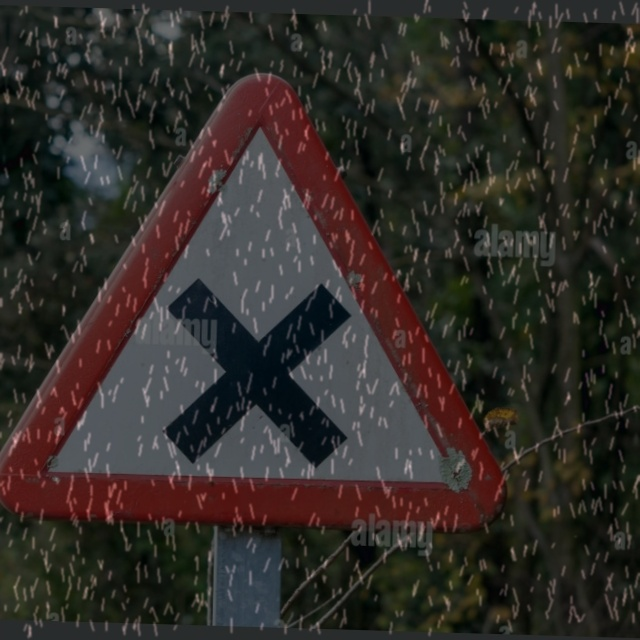Cross_Road: (10, 74, 511, 527)
